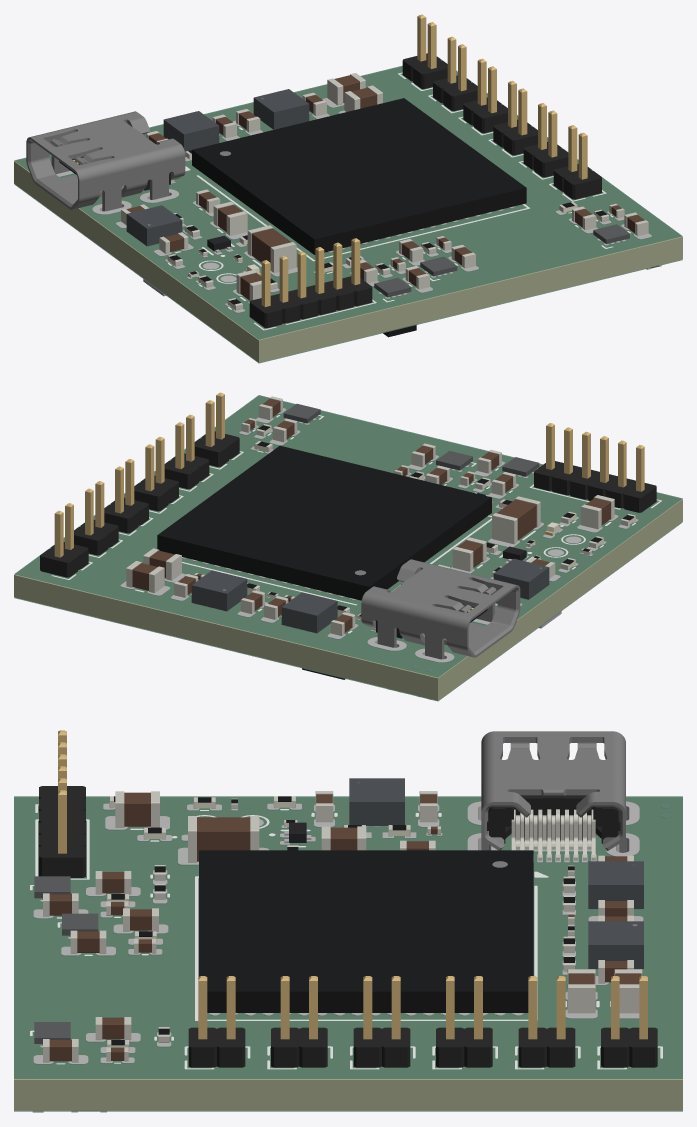
Rendered from Combined_V7_Interactive.glb.
3 views of the same model, one above another, from view 1: azimuth 30°, elevation 25°; view 2: azimuth 150°, elevation 25°; view 3: azimuth 270°, elevation 25° (orthographic). The views are drawn at different scales.
Parts seen in each view (by area): view 1: Combined_V7_Source_Geometry; view 2: Combined_V7_Source_Geometry; view 3: Combined_V7_Source_Geometry.
Part boxes in pixels (x1,y1,x2,y2): Combined_V7_Source_Geometry: (14, 14, 682, 363); Combined_V7_Source_Geometry: (14, 392, 682, 701); Combined_V7_Source_Geometry: (14, 730, 682, 1112).
Bounding box in the file's own units: 0.0306 × 0.00693 × 0.03.
